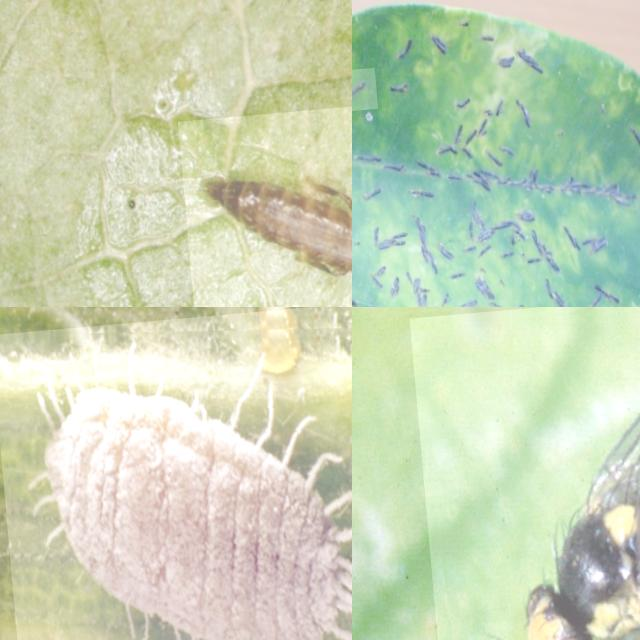IiriomyzaHuidobrensis: (409, 307, 640, 640)
IschnaspisLongirostris: (463, 197, 496, 256), (365, 217, 413, 255), (574, 222, 616, 265), (585, 270, 626, 307), (516, 36, 546, 86), (403, 265, 437, 307), (533, 277, 580, 307), (465, 264, 496, 306), (393, 27, 424, 67), (352, 67, 378, 111), (354, 138, 386, 173), (509, 86, 536, 127), (616, 117, 640, 159), (429, 21, 452, 60), (516, 198, 541, 228), (452, 84, 474, 114), (408, 182, 437, 204)
PseudococcusLongispinus: (0, 307, 352, 640)
ThripsSimplex: (177, 94, 352, 307)
